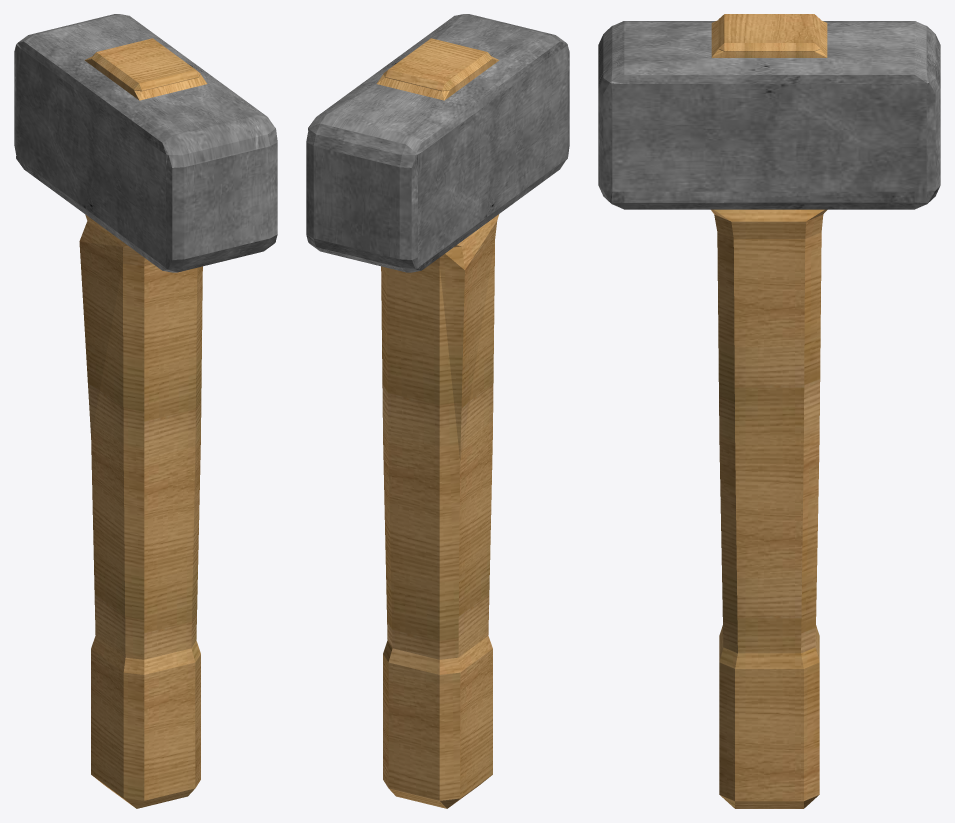
Rendered from Hammer.obj.
The picture shows the model from 3 angles, left to right: view 1: azimuth 30°, elevation 25°; view 2: azimuth 150°, elevation 25°; view 3: azimuth 270°, elevation 25°; orthographic projection. The views are drawn at different scales.
Parts seen in each view (by area): view 1: Cube_Cube.001; view 2: Cube_Cube.001; view 3: Cube_Cube.001.
Part boxes in pixels (x1,y1,x2,y2): Cube_Cube.001: [14, 14, 277, 808]; Cube_Cube.001: [306, 14, 569, 808]; Cube_Cube.001: [598, 14, 940, 808].
Bounding box in the file's own units: 2.48 × 15.68 × 6.33.
Materials: 2 (2 with a texture image).
